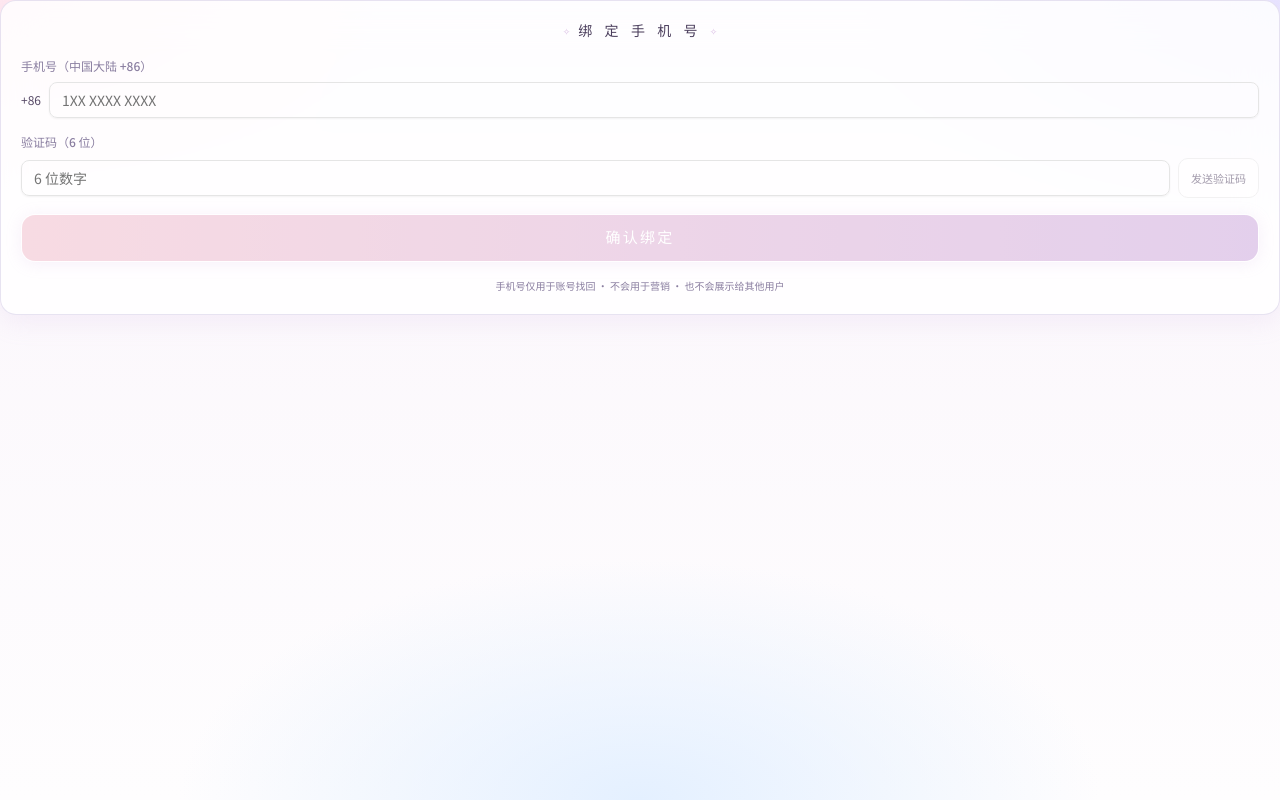
Test: PhoneBindCard › phone 输入自动过滤非数字
Type "138-abc-8888" into the field with test id "phone-input" at {"x": 654, "y": 100}, box [49,82,1259,118]
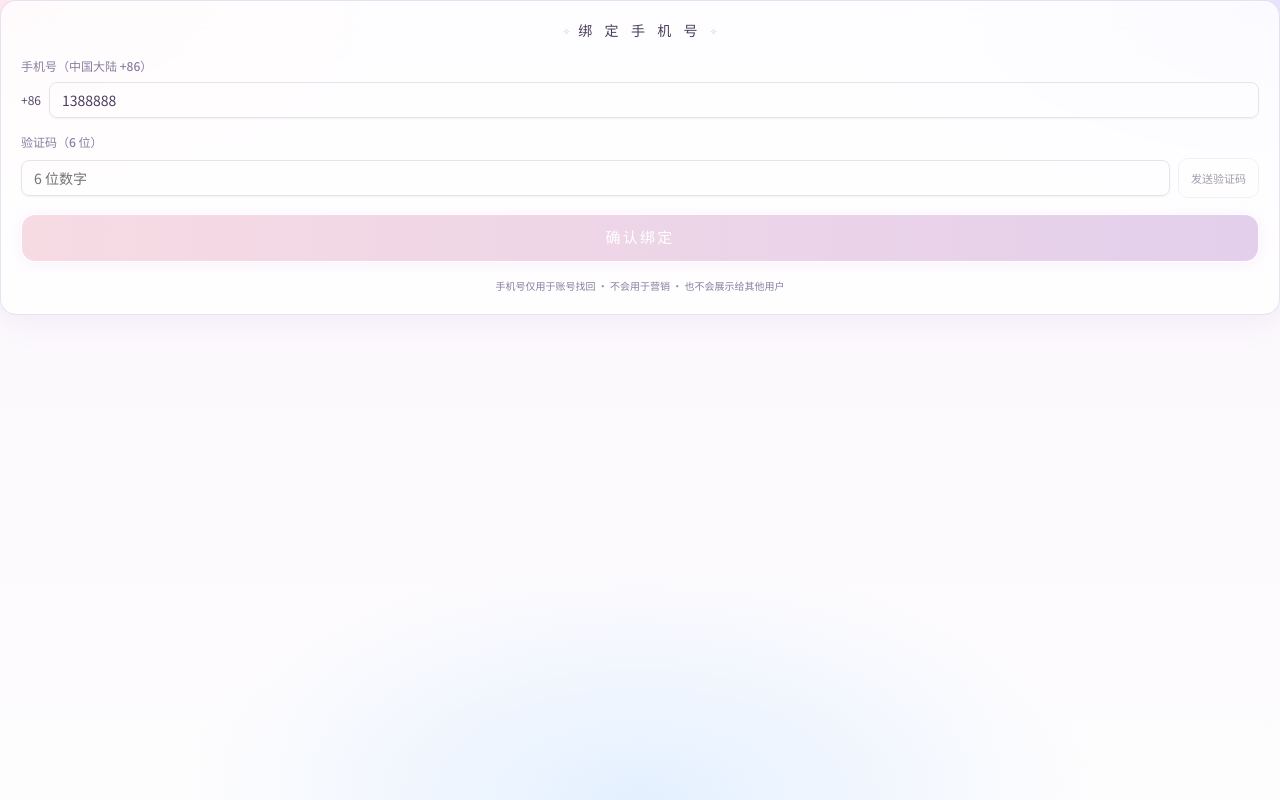
Expected: the field with test id "phone-input" holds "1388888", [49,82,1259,118]
